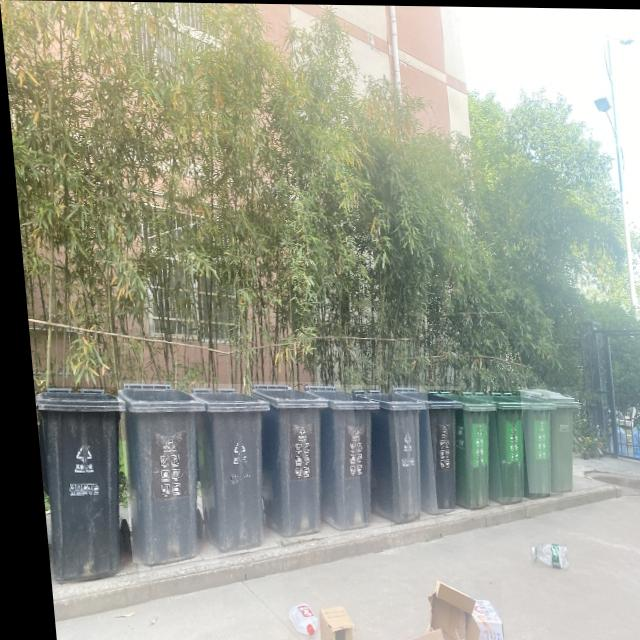garbage: (272, 577, 494, 640), (519, 542, 558, 567)
garbage_bin: (27, 386, 129, 582), (110, 380, 208, 564), (182, 383, 271, 552), (242, 381, 329, 538), (297, 383, 381, 532), (345, 388, 426, 523), (384, 384, 461, 513), (420, 389, 495, 508), (454, 389, 528, 504), (486, 389, 554, 496), (513, 385, 578, 492)
